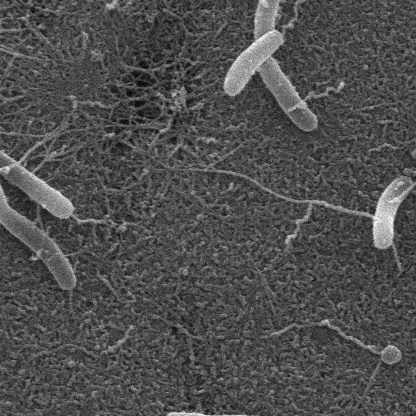cell2surface: (194, 171, 378, 221), (0, 121, 70, 174), (392, 145, 416, 204), (0, 33, 43, 64), (0, 65, 30, 101), (288, 410, 330, 416)
filament: (0, 142, 76, 288)
regular: (0, 133, 75, 222), (256, 51, 320, 131), (222, 31, 285, 96), (372, 177, 416, 250), (253, 1, 281, 44), (163, 414, 289, 416)
